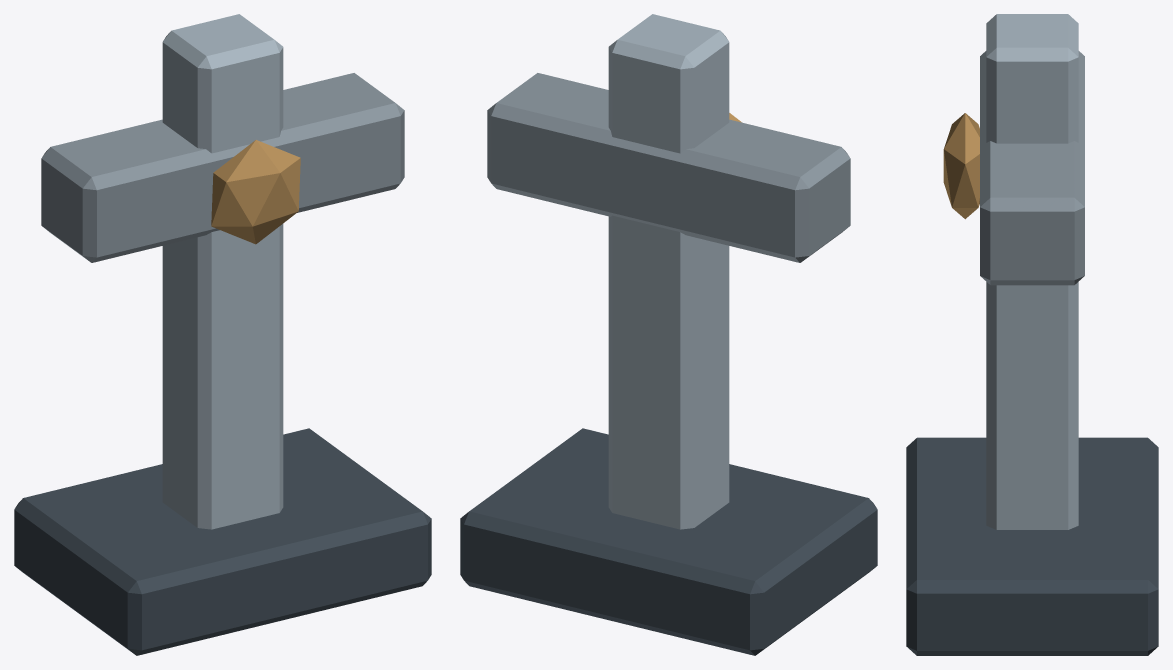
File: SH10_L01_CrossGrave.fbx
3 renders of one model, left to right at view 1: azimuth 30°, elevation 25°; view 2: azimuth 150°, elevation 25°; view 3: azimuth 270°, elevation 25°, orthographic.
Visible parts, largest first — view 1: SH10_L01_CrossGrave; view 2: SH10_L01_CrossGrave; view 3: SH10_L01_CrossGrave.
Boxes of the visible parts, x1,y1,x2,y2 form: SH10_L01_CrossGrave: (14,14,431,655); SH10_L01_CrossGrave: (460,14,877,655); SH10_L01_CrossGrave: (906,14,1158,655).
Size of the model in its own units: 90 by 146 by 60.
